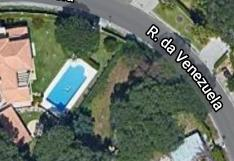pool: (40, 57, 98, 118)
